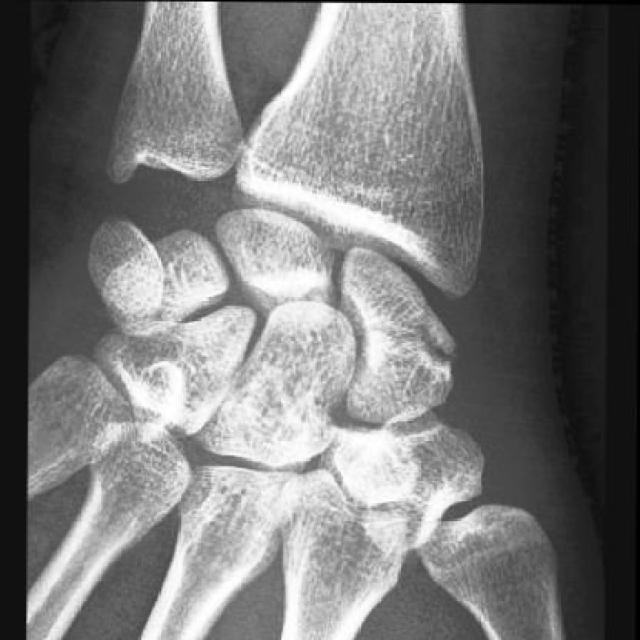Fracture: (337, 305, 462, 403)
